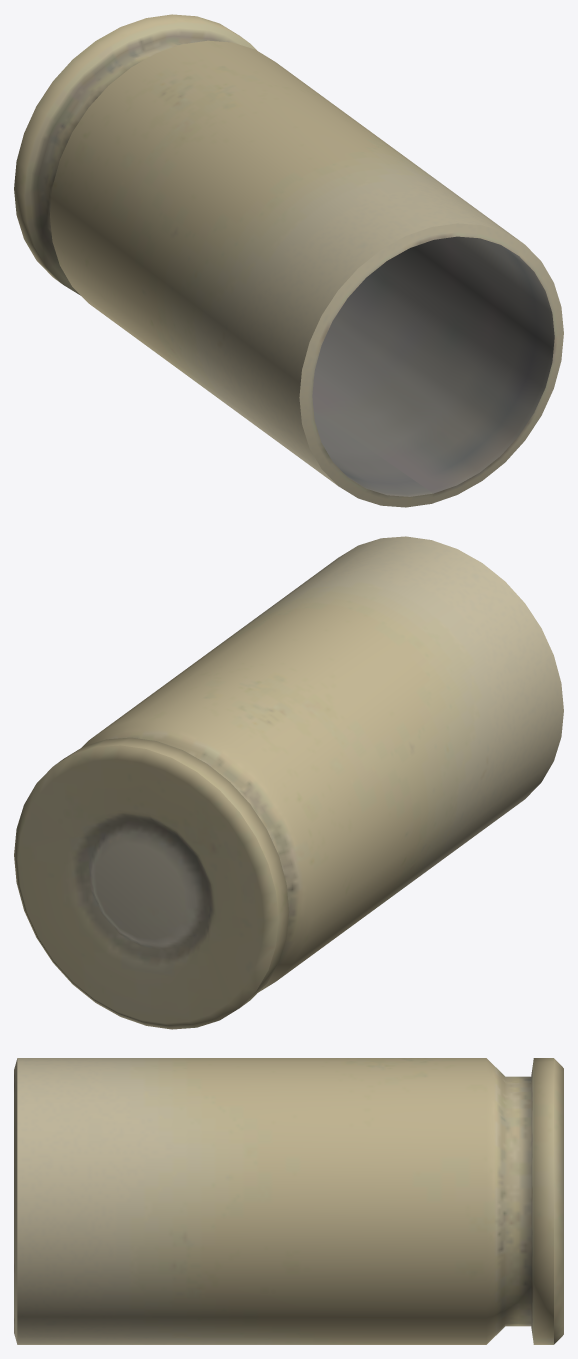
The model's file is casing_glock_casing.glb.
The picture shows the model from 3 angles, top to bottom: view 1: azimuth 30°, elevation 25°; view 2: azimuth 150°, elevation 25°; view 3: azimuth 270°, elevation 25°; orthographic projection. The views are drawn at different scales.
Visible parts, largest first — view 1: casing_glock_casing; view 2: casing_glock_casing; view 3: casing_glock_casing.
Boxes of the visible parts, <box> form: casing_glock_casing: <box>14,14,563,507</box>; casing_glock_casing: <box>14,536,563,1029</box>; casing_glock_casing: <box>14,1058,563,1344</box>.
Size of the model in its own units: 0.01 by 0.01 by 0.0192.
Materials: 1 (1 with a texture image).
